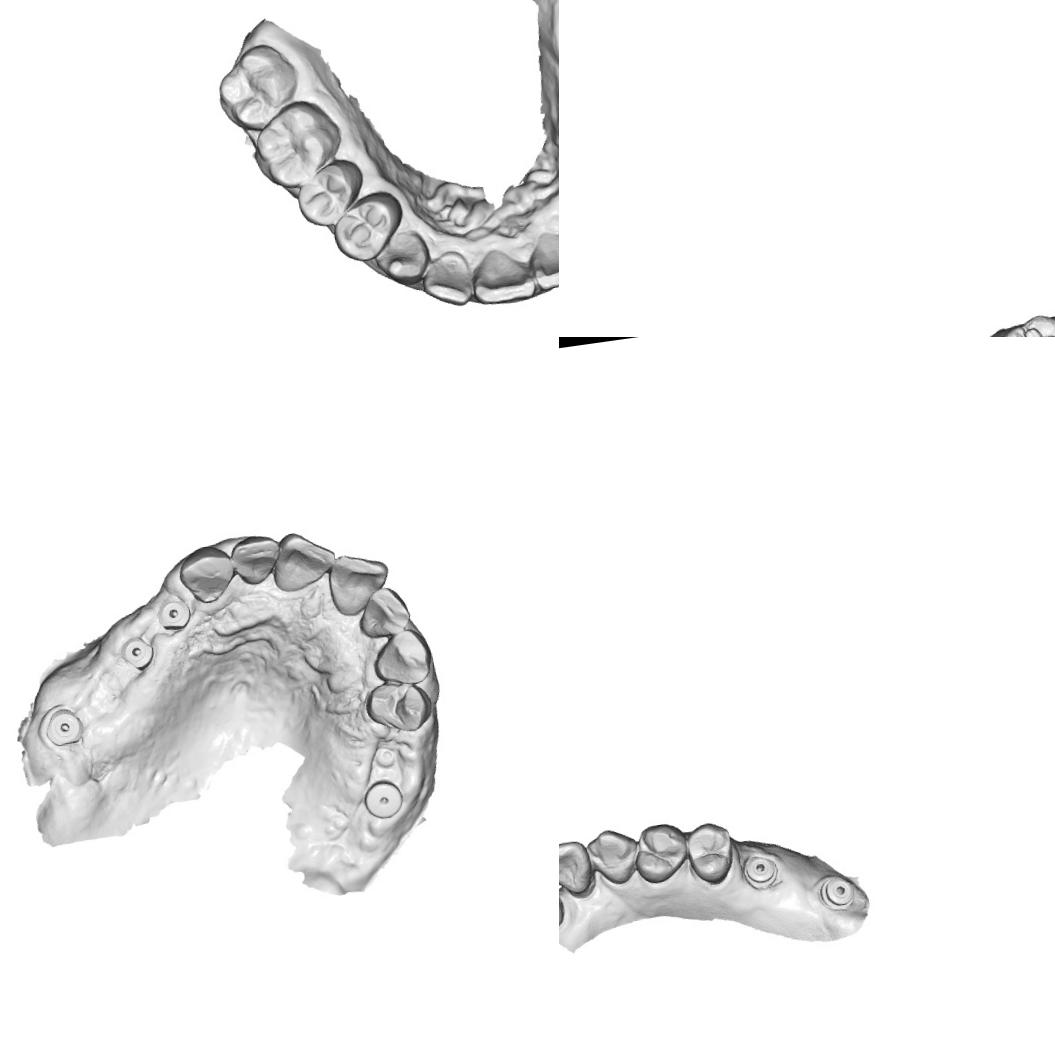canine: (368, 625, 435, 690), (174, 541, 238, 608), (584, 824, 642, 888), (371, 228, 434, 284)
implant: (360, 776, 407, 822), (41, 705, 87, 749), (816, 872, 858, 913), (117, 632, 156, 674), (740, 853, 781, 892), (156, 596, 193, 632)
incisor: (465, 239, 540, 309), (324, 548, 395, 620), (267, 526, 340, 594), (417, 244, 478, 312), (354, 583, 414, 641), (227, 532, 285, 588), (559, 837, 598, 904), (525, 222, 559, 290)
molar: (247, 94, 350, 198), (207, 38, 305, 136)
premolar: (327, 188, 409, 268), (288, 154, 365, 230), (360, 676, 435, 739), (629, 818, 692, 886), (683, 818, 738, 888)
